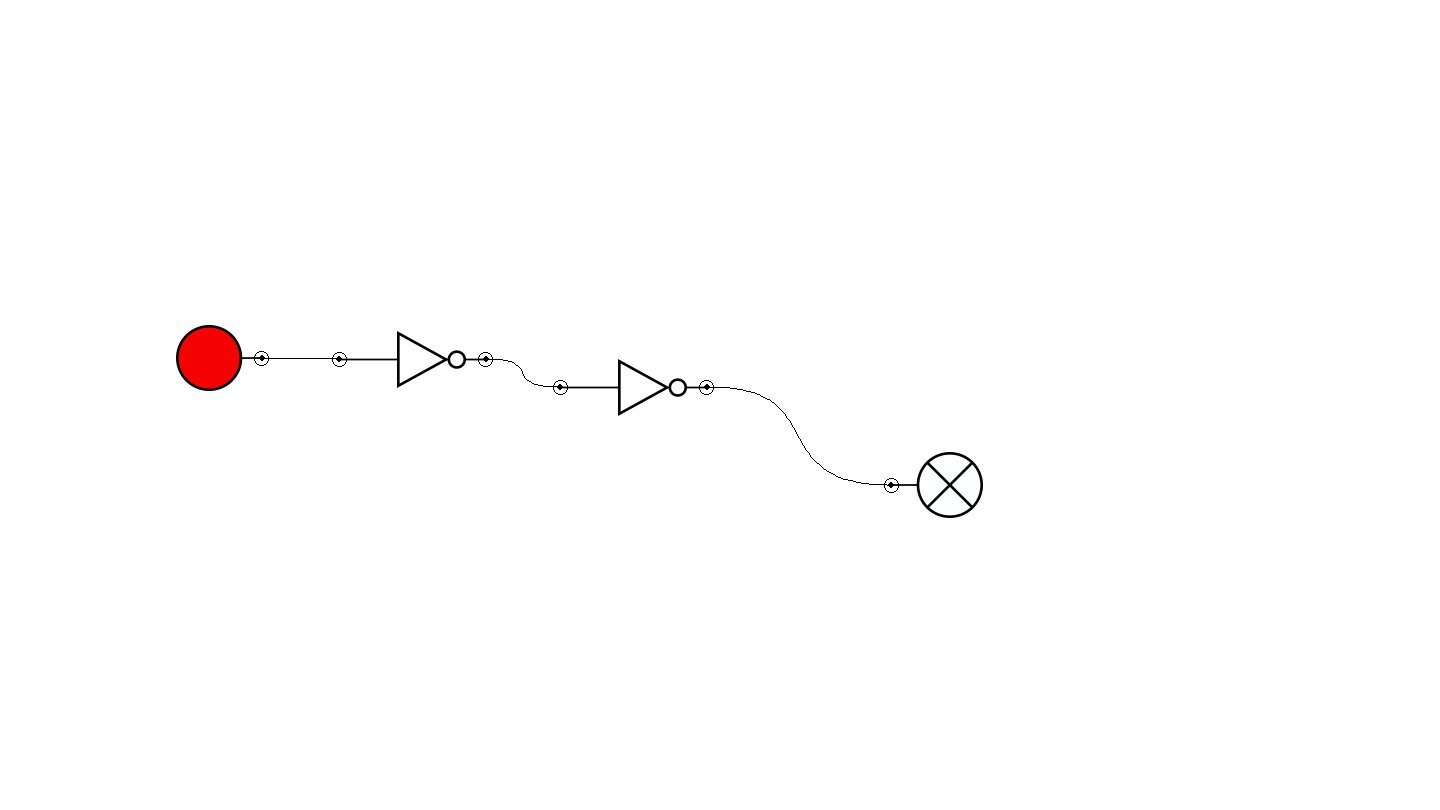bulb: (884, 452, 983, 518)
not: (332, 331, 493, 388), (553, 359, 714, 416)
switch_False: (176, 325, 269, 391)
